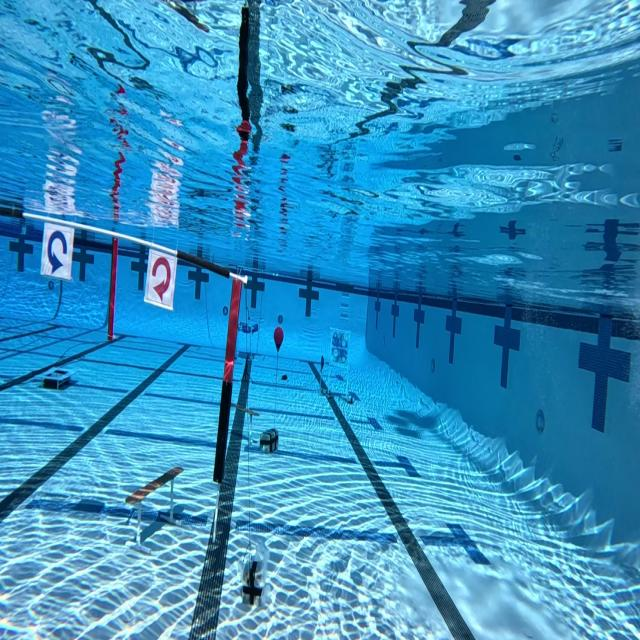blue_side: (38, 213, 75, 284)
red_side: (145, 243, 178, 313)
